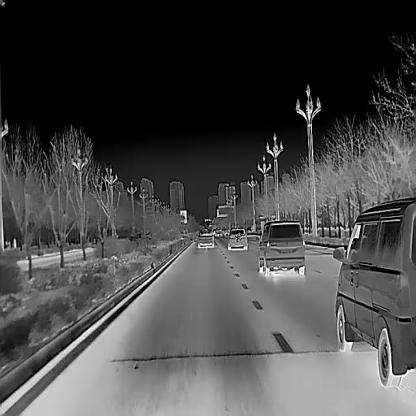car: (333, 195, 416, 387), (258, 220, 306, 275), (226, 228, 247, 249), (197, 230, 214, 246)
